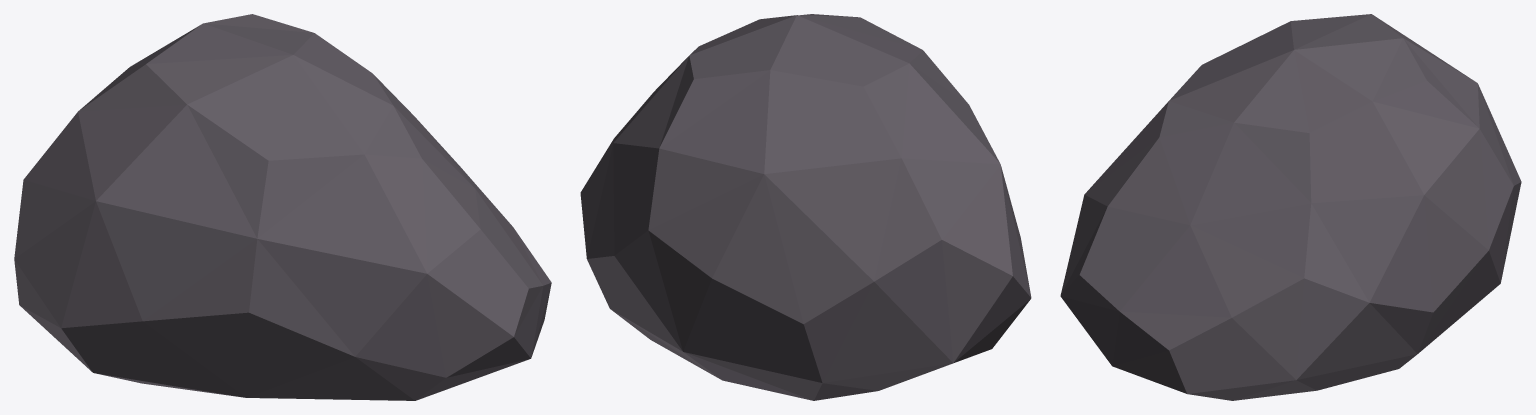
The model's file is Rock01.fbx.
The picture shows the model from 3 angles, left to right: view 1: azimuth 30°, elevation 25°; view 2: azimuth 150°, elevation 25°; view 3: azimuth 270°, elevation 25°; orthographic projection. The views are drawn at different scales.
Visible parts, largest first — view 1: Icosphere; view 2: Icosphere; view 3: Icosphere.
Boxes of the visible parts, x1,y1,x2,y2 form: Icosphere: (14,14,551,400); Icosphere: (580,14,1031,400); Icosphere: (1060,14,1521,400).
Bounding box in the file's own units: 53.7 × 36.68 × 51.9.
